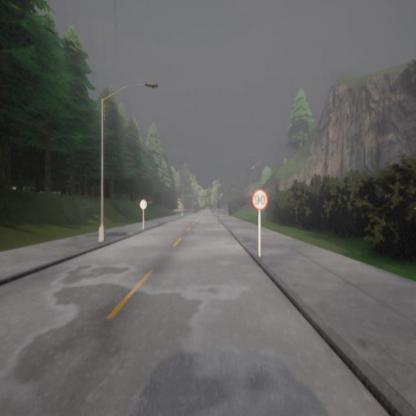traffic_sign_90: (251, 189, 268, 210)
